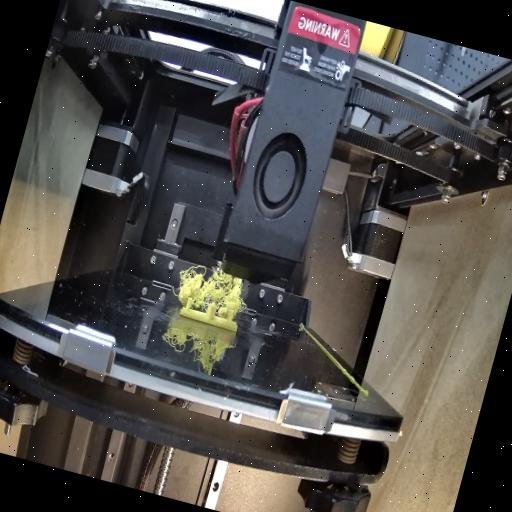spaghetti: (170, 252, 254, 323)
